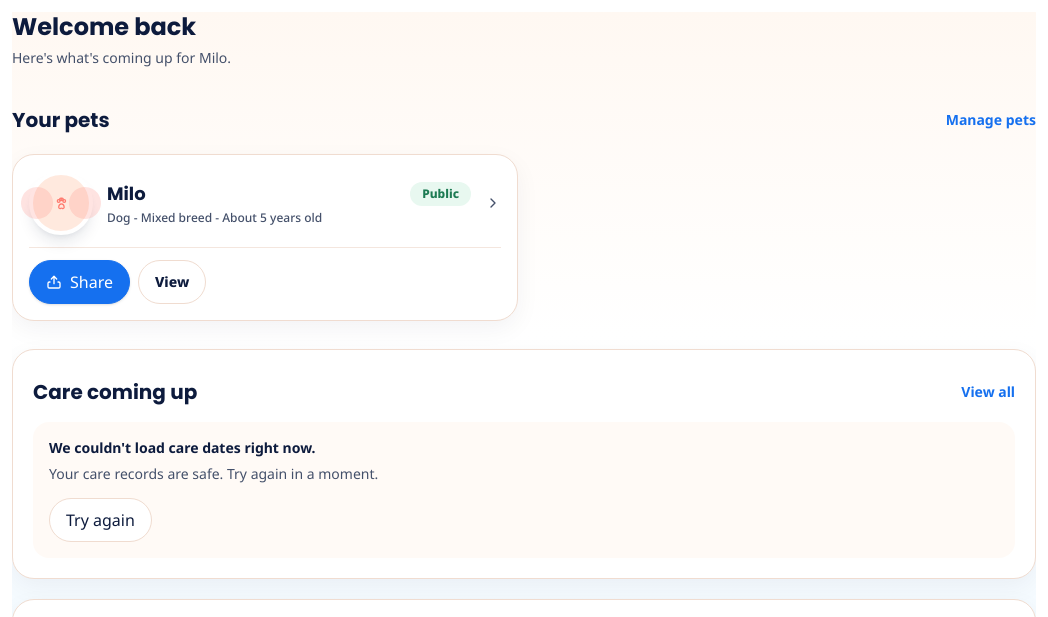
Test: Dashboard loading and failures › never turns a failed care read into an empty answer, and retries in place
Expected: the text "We couldn't load care dates right now." is shown, [49,438,316,457]
Expected: the link with aria-label "Manage Milo" is shown, [29,171,501,235]
What coordinates should you click on to do the following:
click the button "Try again"
I would click on:
 (100, 520)
Its box is [49,498,152,542].
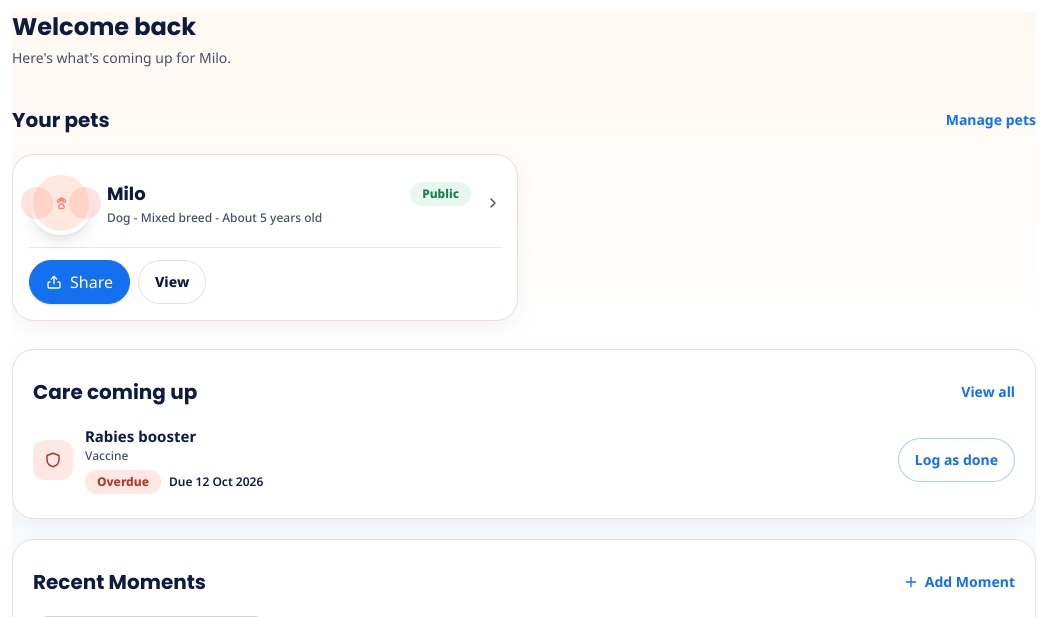
Now the text "Rabies booster" is shown, box [85,426,196,446]
